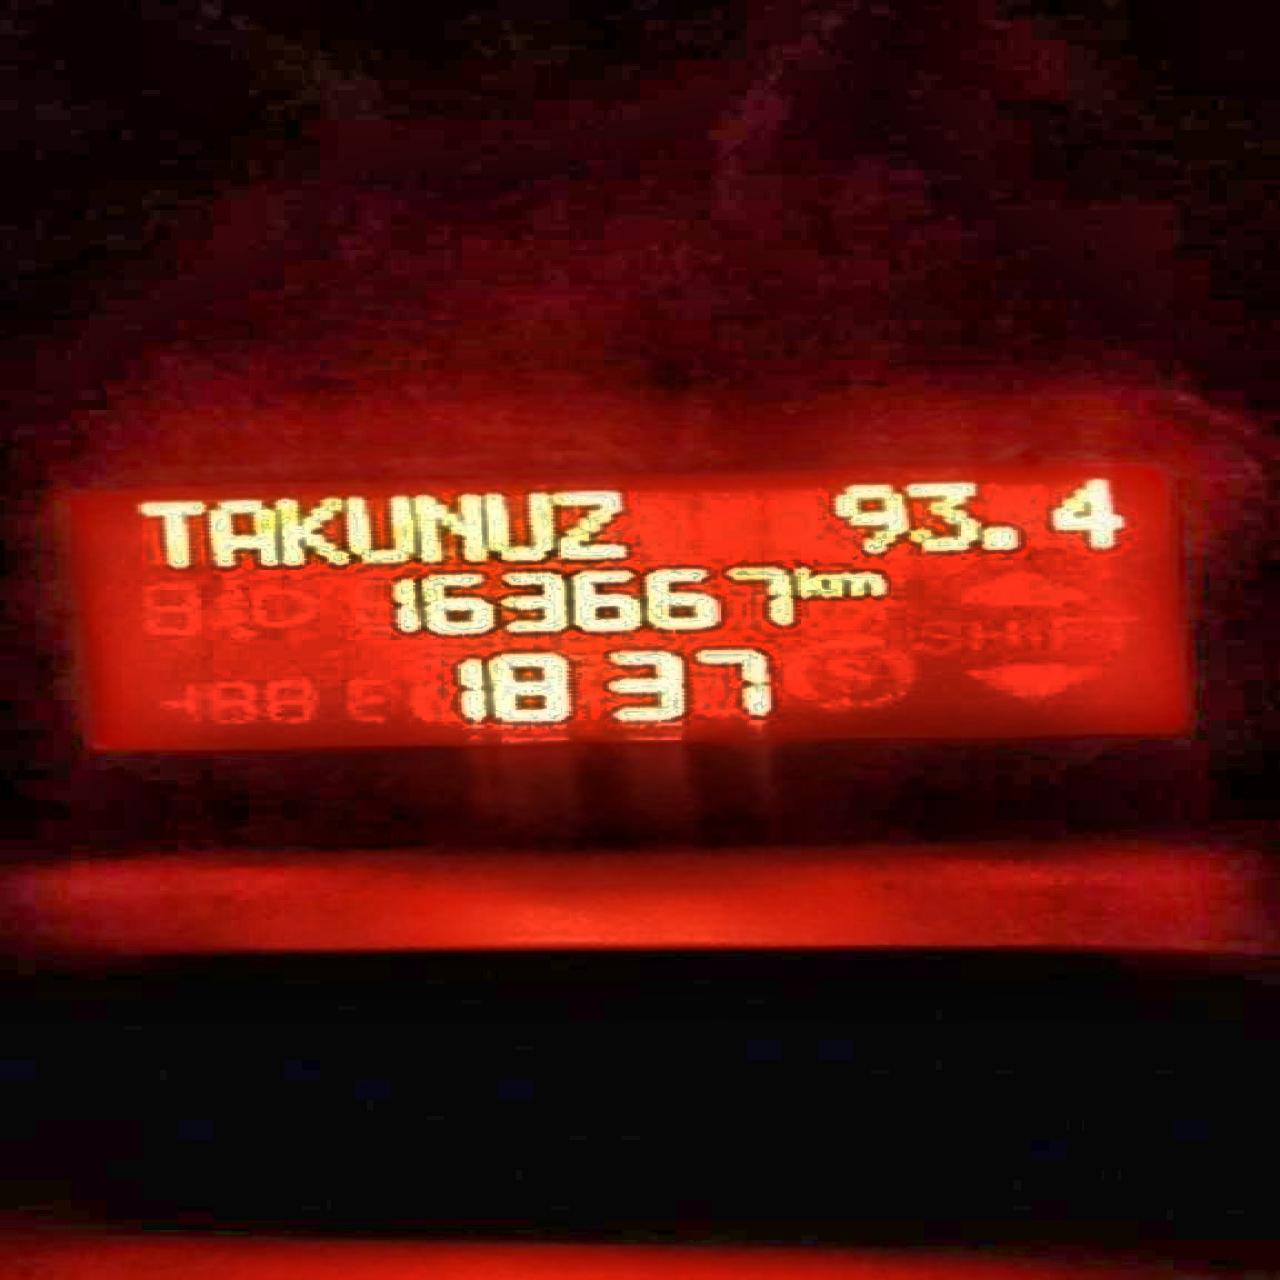-: (980, 520, 1024, 551)
1: (454, 653, 484, 722), (387, 572, 415, 633)
3: (602, 646, 687, 726), (903, 477, 982, 551), (498, 567, 568, 633)
4: (1042, 476, 1131, 550)
6: (417, 570, 496, 635), (642, 565, 720, 631), (568, 567, 642, 633)
7: (694, 645, 774, 717), (722, 563, 794, 627)
8: (489, 651, 571, 724)
9: (829, 478, 904, 557)
X: (129, 493, 200, 572), (482, 486, 556, 561), (556, 486, 628, 559), (209, 496, 278, 570), (416, 491, 482, 565), (347, 492, 414, 564), (278, 492, 342, 566), (828, 567, 888, 599), (794, 564, 826, 601)
odometer: (54, 454, 1193, 757)
